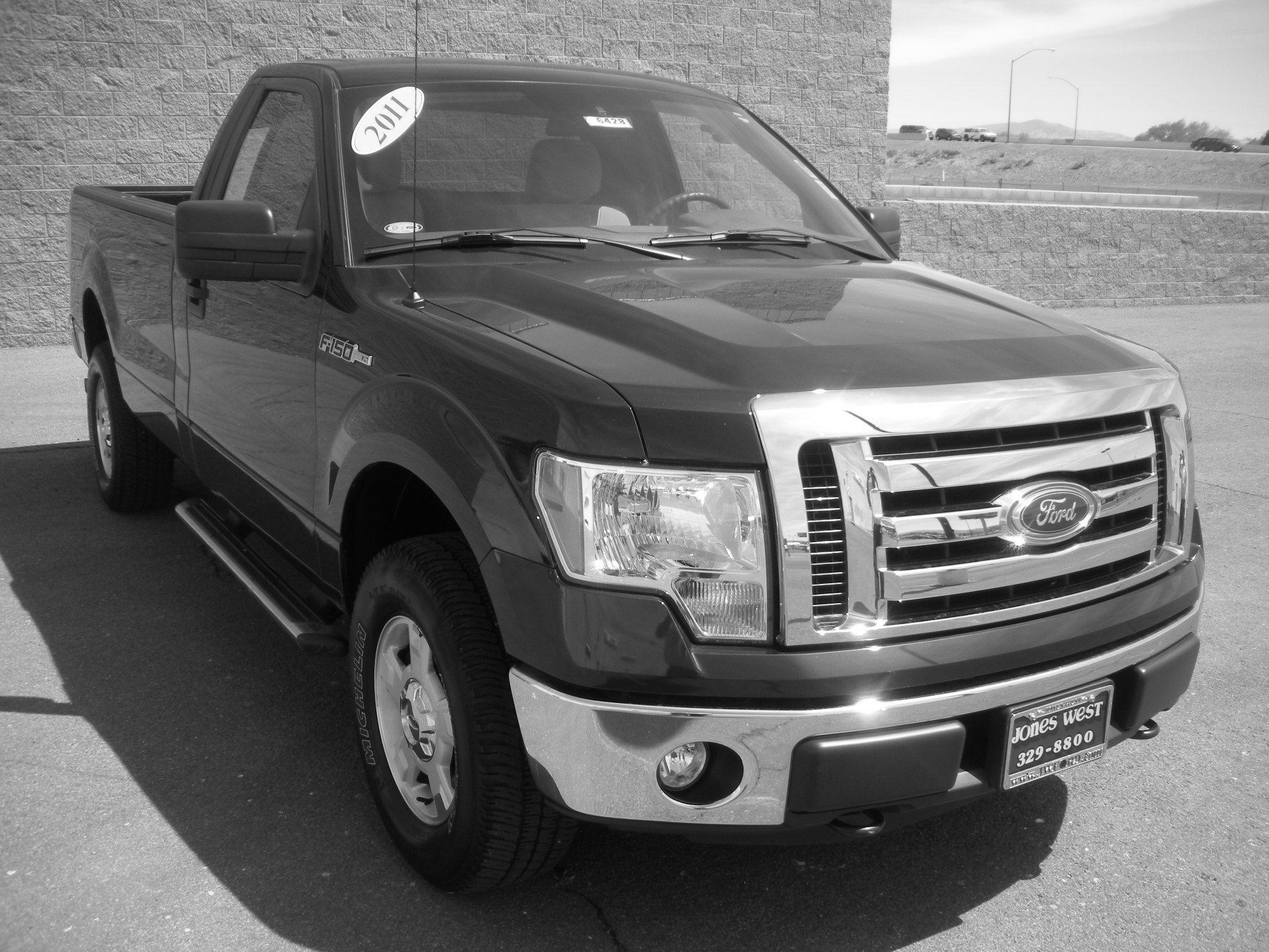car: (72, 55, 1212, 893)
